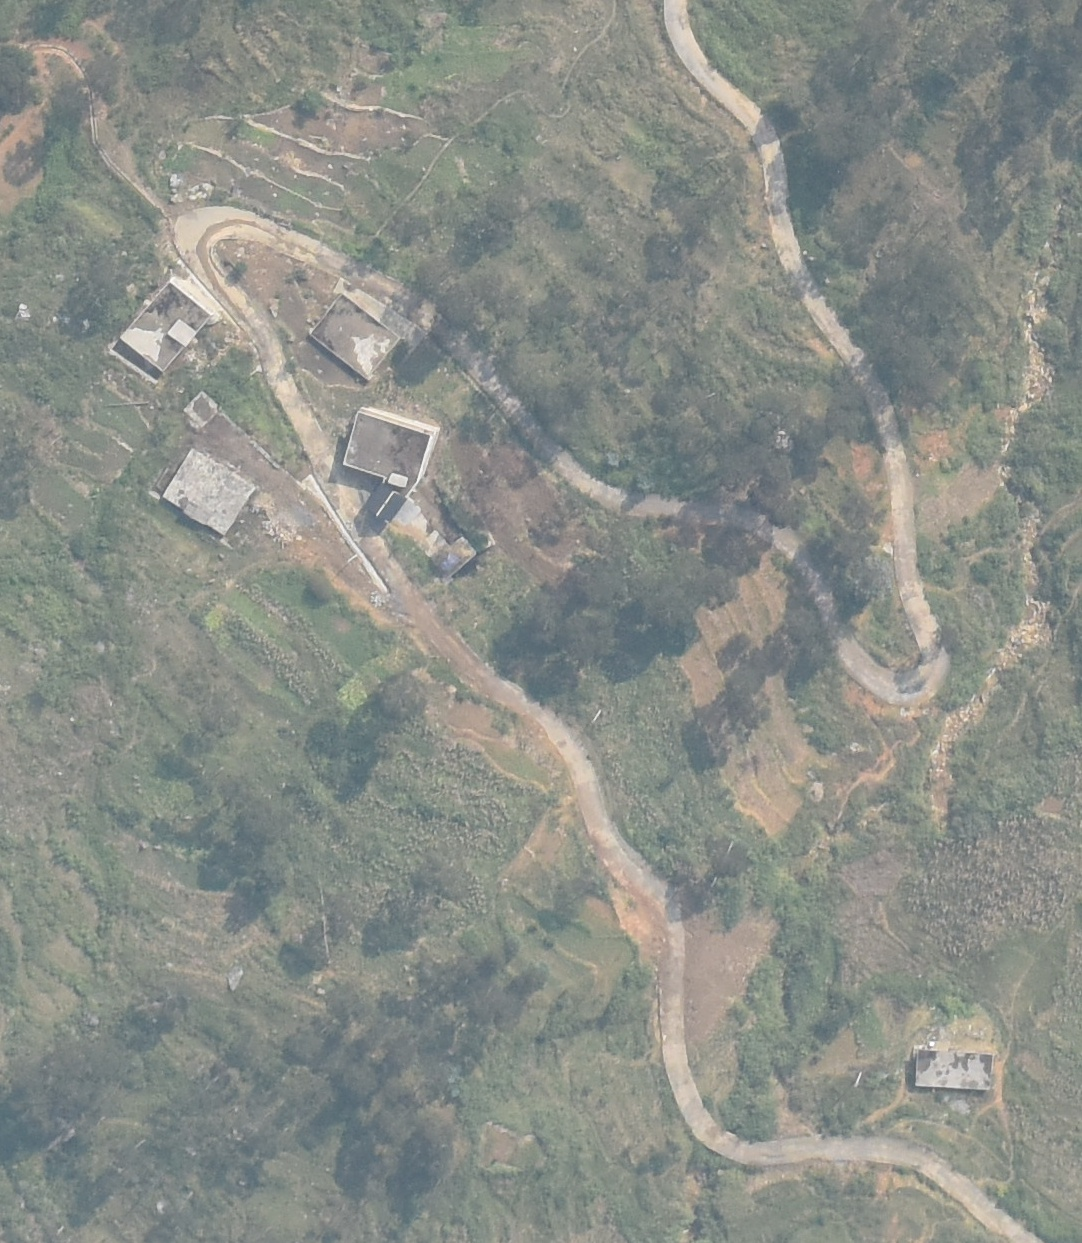building: (122, 270, 220, 378), (334, 398, 444, 490), (158, 447, 262, 538), (302, 295, 402, 384), (911, 1038, 995, 1096), (424, 543, 483, 582), (362, 480, 411, 527)
